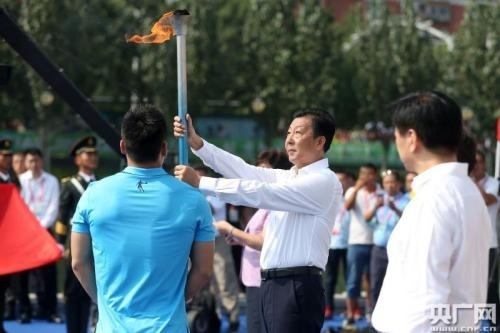fire: (126, 10, 177, 43)
